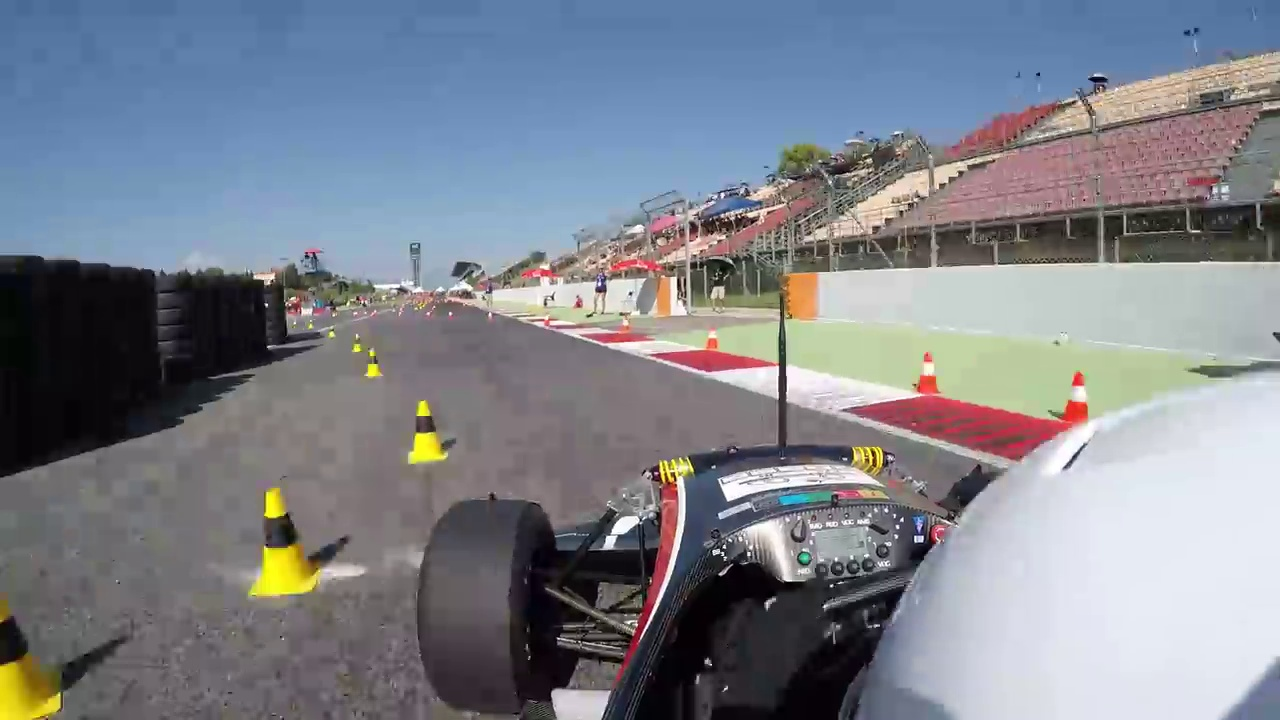Cone: (257, 486, 313, 598), (408, 397, 448, 462), (1061, 371, 1098, 427), (916, 352, 944, 395), (362, 344, 386, 379)
